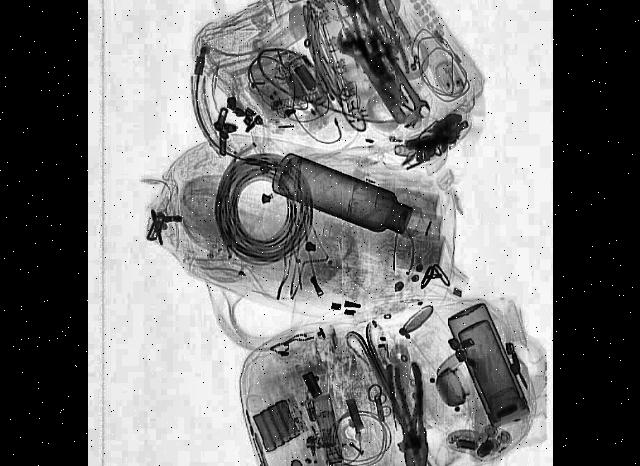Pliers: (329, 0, 397, 89), (392, 361, 434, 466)
Wrench: (332, 20, 408, 134), (383, 53, 431, 127)
